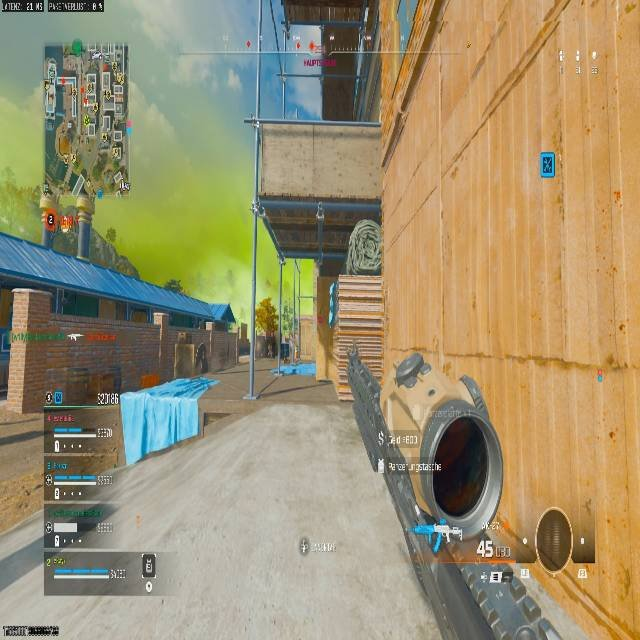player: (253, 297, 290, 362)
